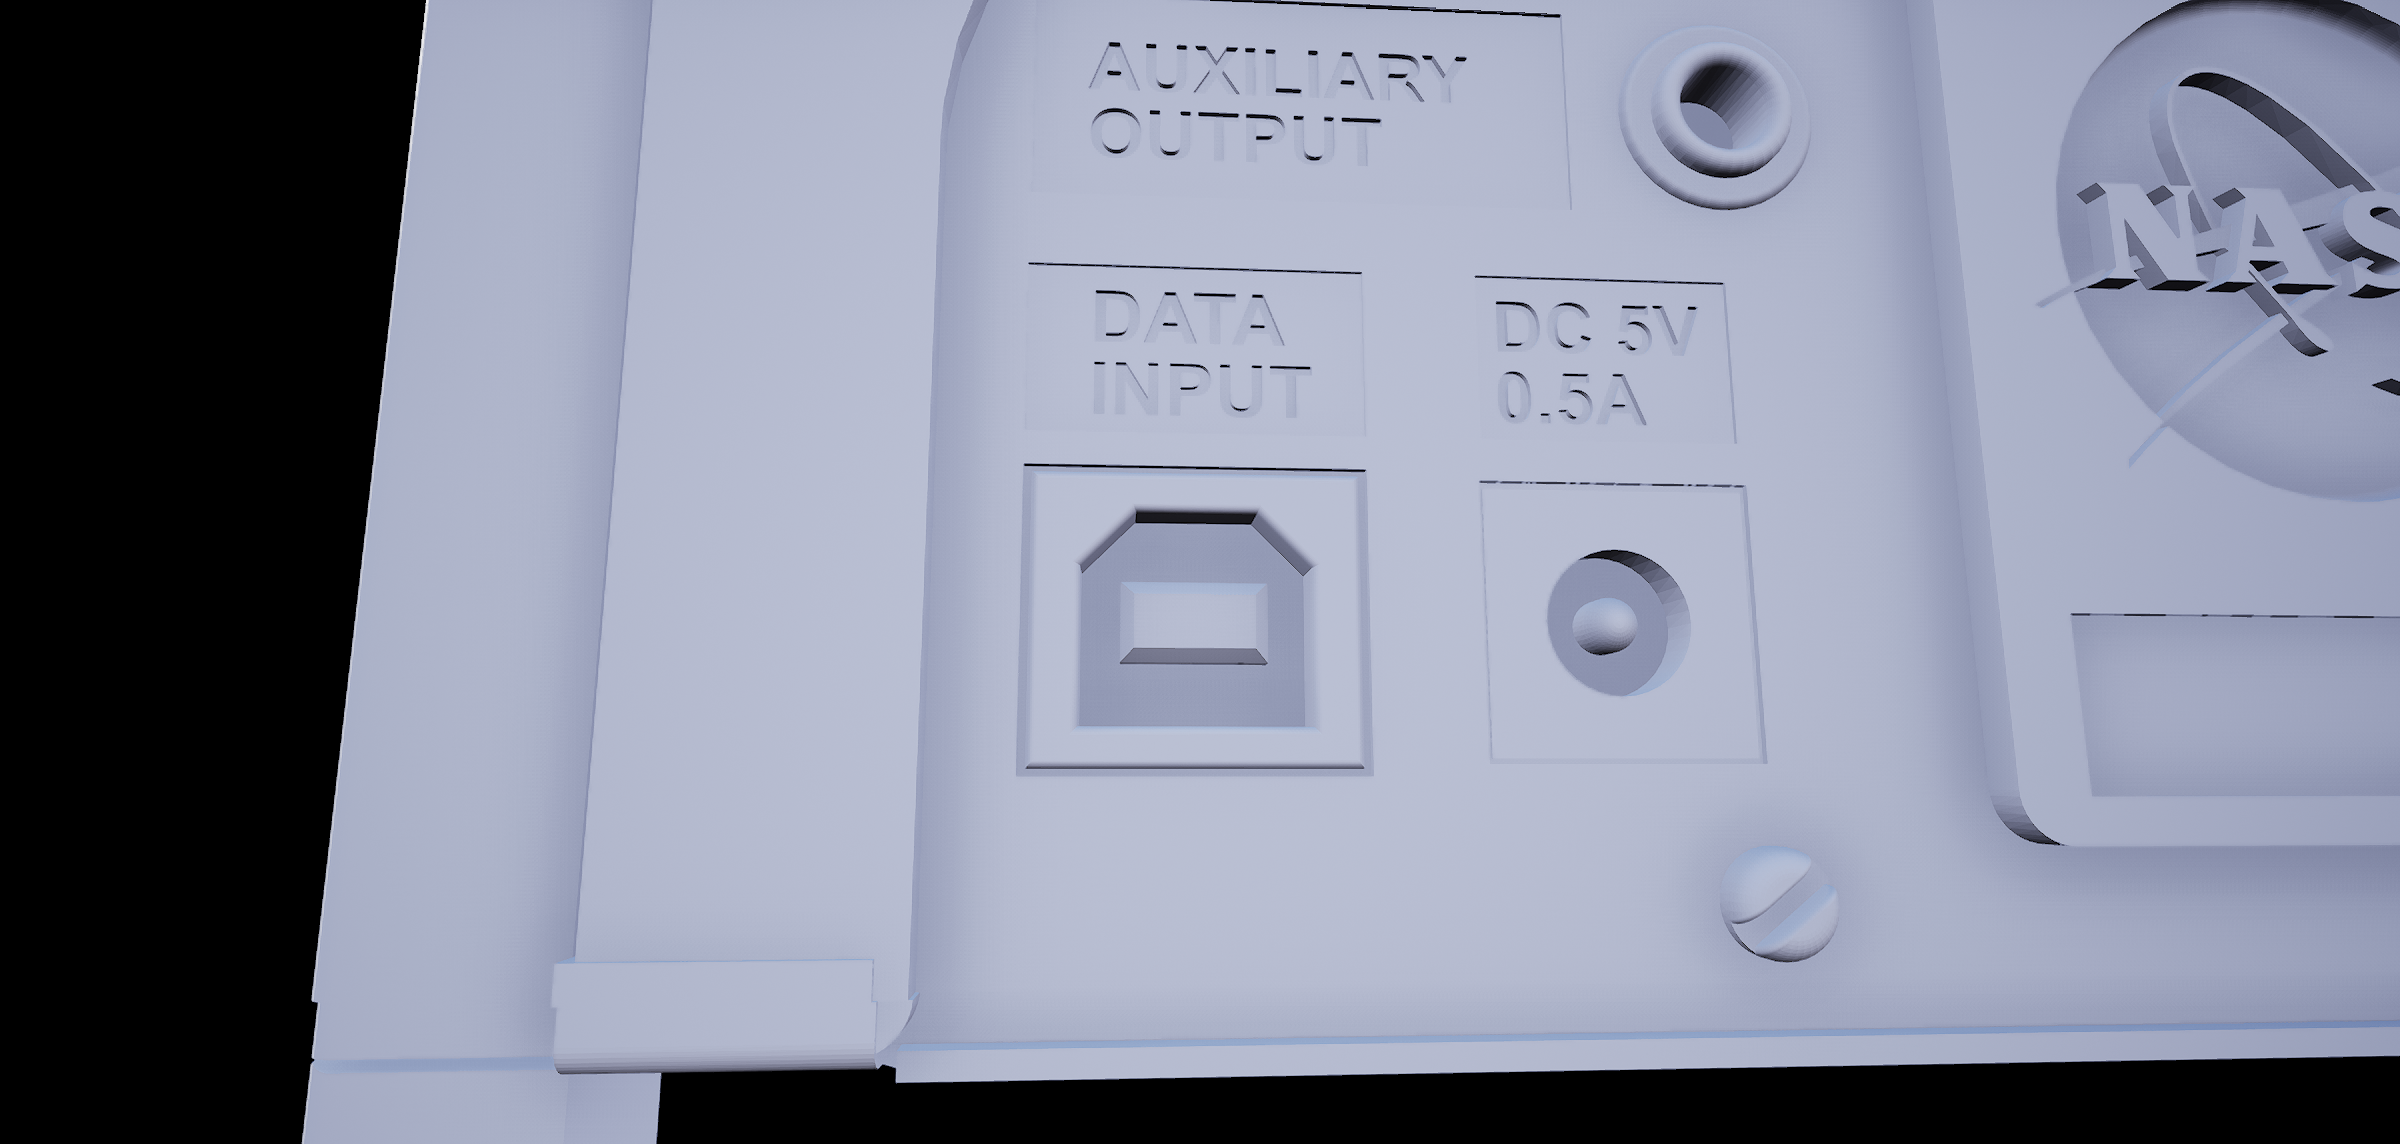aux: (1607, 28, 1824, 217)
dc: (1534, 534, 1704, 701)
usb: (1065, 492, 1319, 743)
